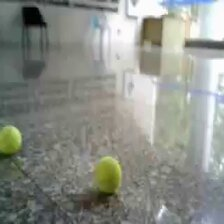tennis: (92, 156, 120, 191), (1, 123, 23, 155)
